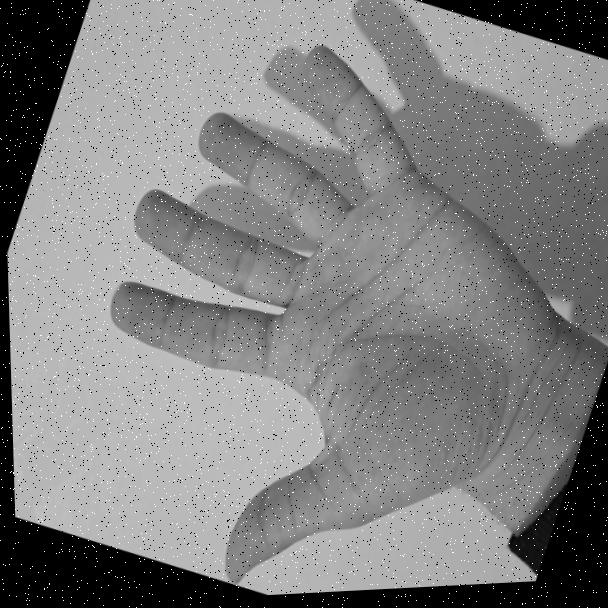five: (18, 0, 608, 607)
